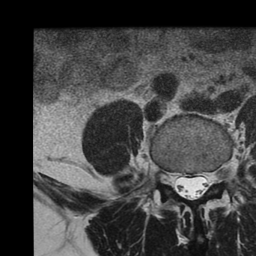CCS_normal: (186, 163, 197, 208)
LFS_normal: (210, 161, 221, 193)
LLS_normal: (197, 162, 209, 201)
RFS_normal: (165, 160, 176, 196)
RLS_normal: (175, 165, 185, 202)
